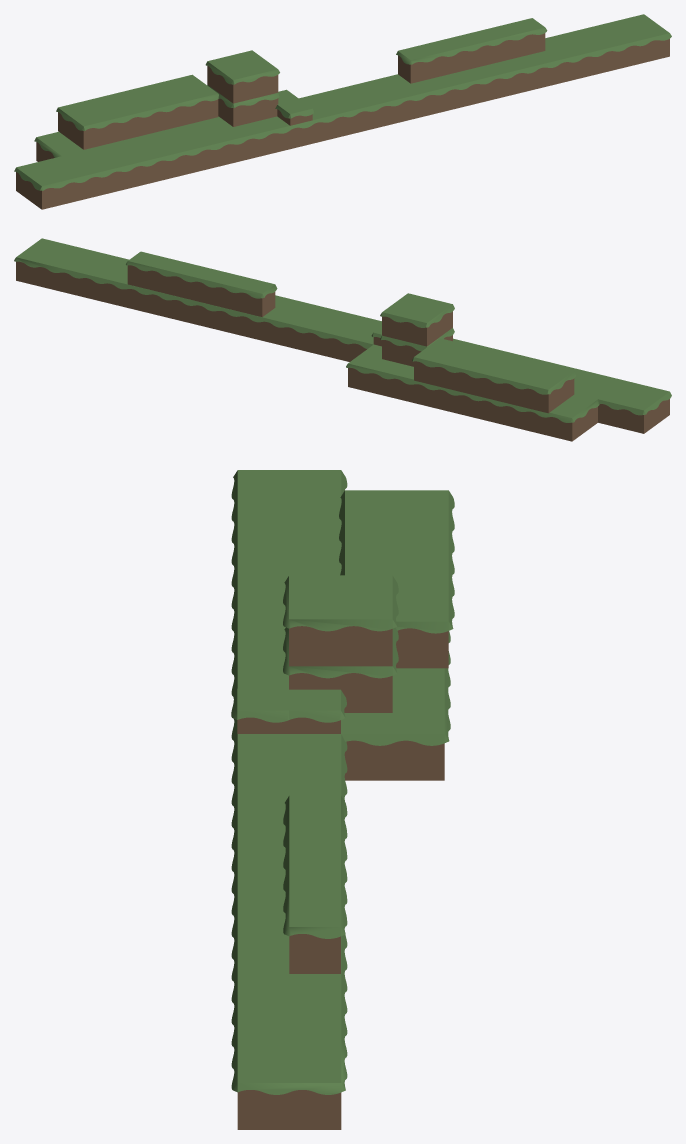
Rendered from wallgroup03.fbx.
The picture shows the model from 3 angles, top to bottom: view 1: azimuth 30°, elevation 25°; view 2: azimuth 150°, elevation 25°; view 3: azimuth 270°, elevation 25°; orthographic projection. The views are drawn at different scales.
Visible parts, largest first — view 1: blockSnowLarge.004, blockSnowLarge.009, blockSnowLong.006, blockSnowLarge.010, blockSnowLarge.008, blockSnowHalf.005; view 2: blockSnowLarge.004, blockSnowLarge.008, blockSnowLarge.009, blockSnowLong.006, blockSnowLarge.010; view 3: blockSnowLarge.004, blockSnowLarge.009, blockSnowLarge.010, blockSnowLong.006, blockSnowLarge.008, blockSnowHalf.005.
Part boxes in pixels (<box>): blockSnowLarge.004: <box>14,14,671,209</box>; blockSnowLarge.009: <box>56,74,218,149</box>; blockSnowLong.006: <box>396,18,547,83</box>; blockSnowLarge.010: <box>205,50,279,126</box>; blockSnowLarge.008: <box>34,116,219,161</box>; blockSnowHalf.005: <box>275,89,314,125</box>; blockSnowLarge.004: <box>14,238,671,433</box>; blockSnowLarge.008: <box>346,344,599,441</box>; blockSnowLarge.009: <box>412,338,576,413</box>; blockSnowLong.006: <box>126,251,277,316</box>; blockSnowLarge.010: <box>380,293,454,366</box>; blockSnowLarge.004: <box>231,470,347,1129</box>; blockSnowLarge.009: <box>339,490,454,668</box>; blockSnowLarge.010: <box>283,575,398,712</box>; blockSnowLong.006: <box>283,795,346,973</box>; blockSnowLarge.008: <box>341,521,450,780</box>; blockSnowHalf.005: <box>231,688,346,733</box>.
Bounding box in the file's own units: 28.23 × 3 × 4.31.
